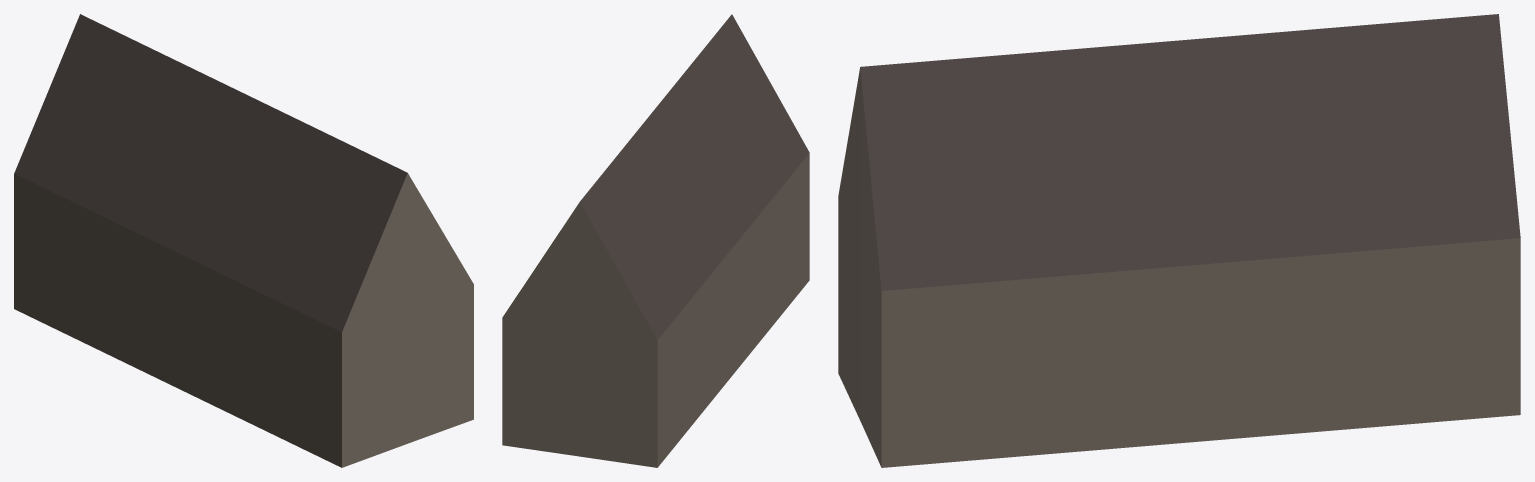
3 renders of one model, left to right at view 1: azimuth 30°, elevation 25°; view 2: azimuth 150°, elevation 25°; view 3: azimuth 270°, elevation 25°, orthographic. The views are drawn at different scales.
Parts seen in each view (by area): view 1: HP-w428196112; view 2: HP-w428196112; view 3: HP-w428196112.
Boxes of the visible parts, bbox=[...] form: HP-w428196112: bbox=[14, 14, 473, 467]; HP-w428196112: bbox=[502, 14, 809, 467]; HP-w428196112: bbox=[838, 14, 1520, 467].
Size of the model in its own units: 5.36 by 6 by 10.49.
